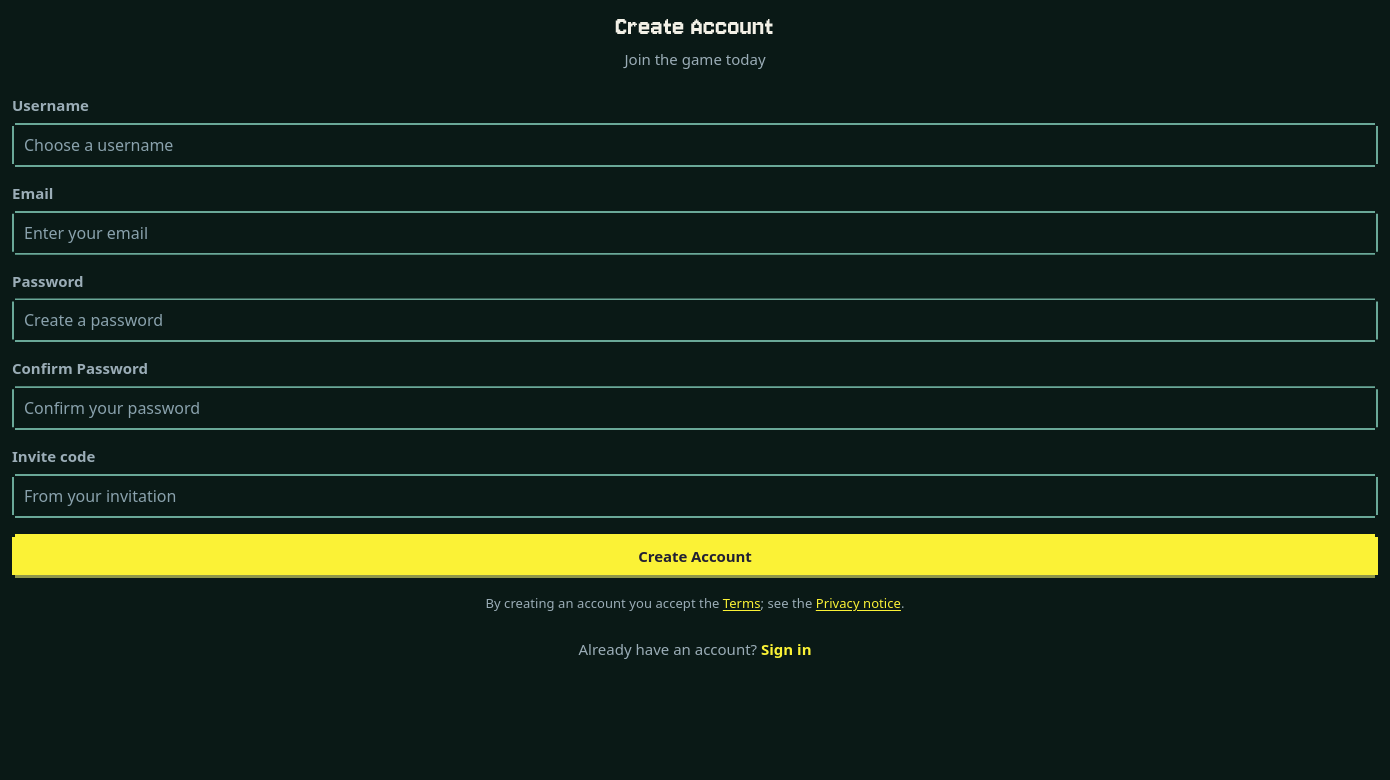
Test: SignupForm credential rules › a 7-character password is refused with the backend message
Type "ana" into the field labelled "Username" at (695, 145), box x1=12 y1=123 x2=1378 y2=167
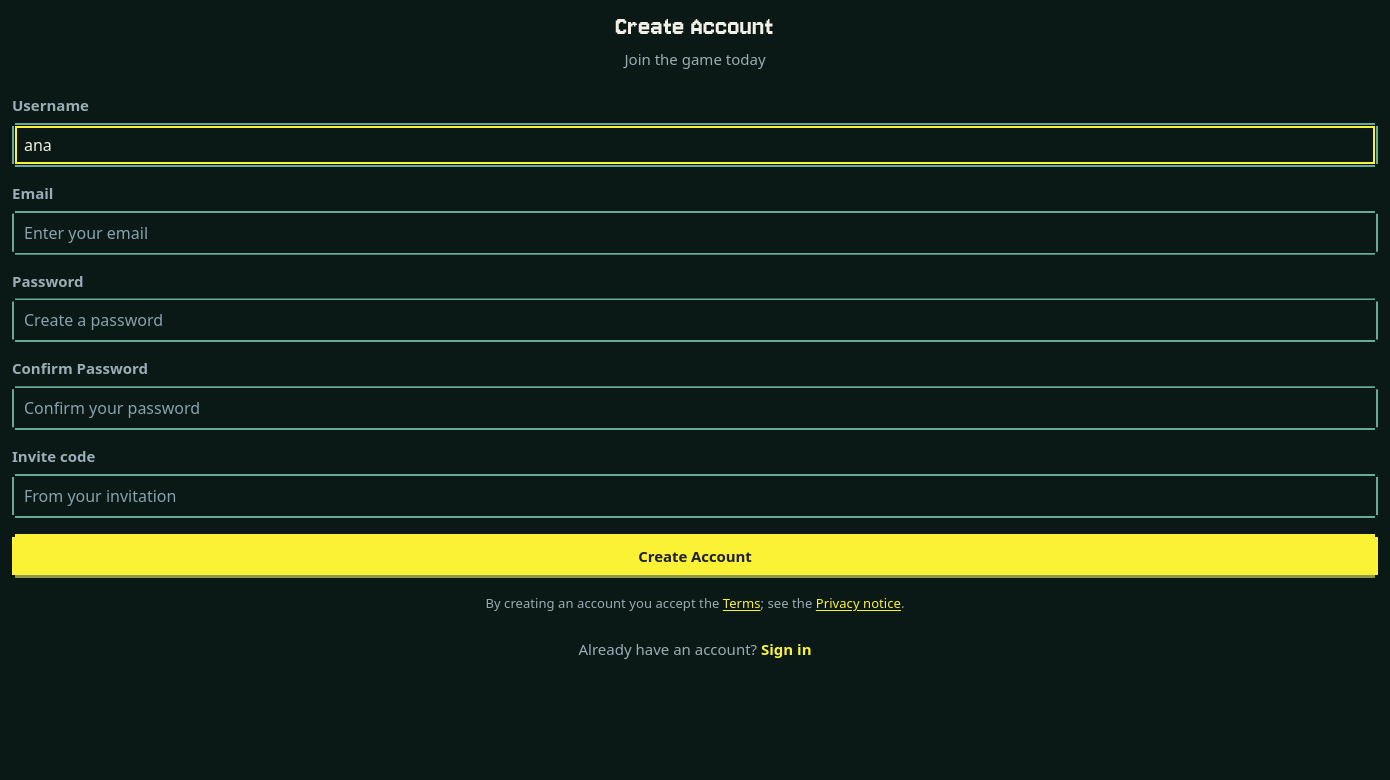
Type "ana@example.com" into the field labelled "Email" at (695, 233), box x1=12 y1=211 x2=1378 y2=255
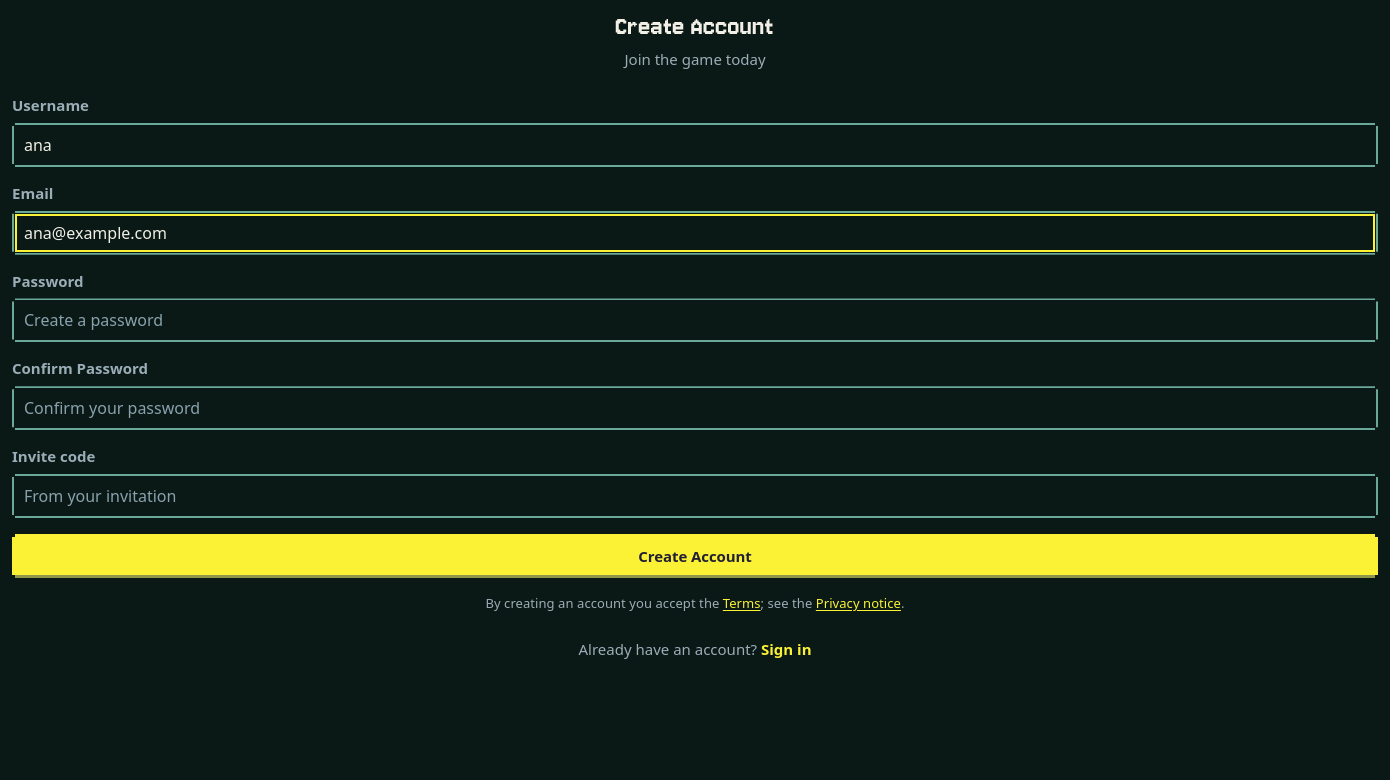
Type "short12" into the password field labelled "Password" at (695, 320), box x1=12 y1=298 x2=1378 y2=342
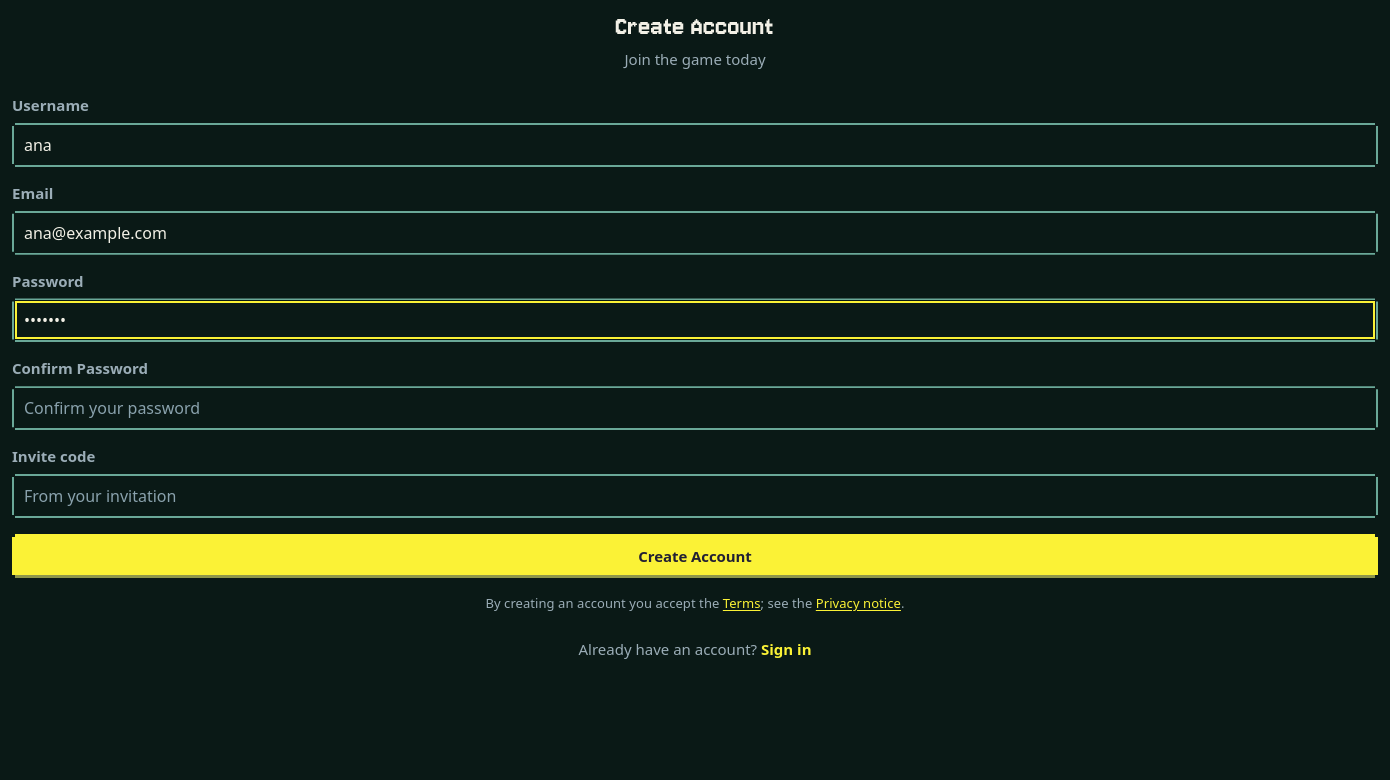
Type "short12" into the password field labelled "Confirm Password" at (695, 408), box x1=12 y1=386 x2=1378 y2=430
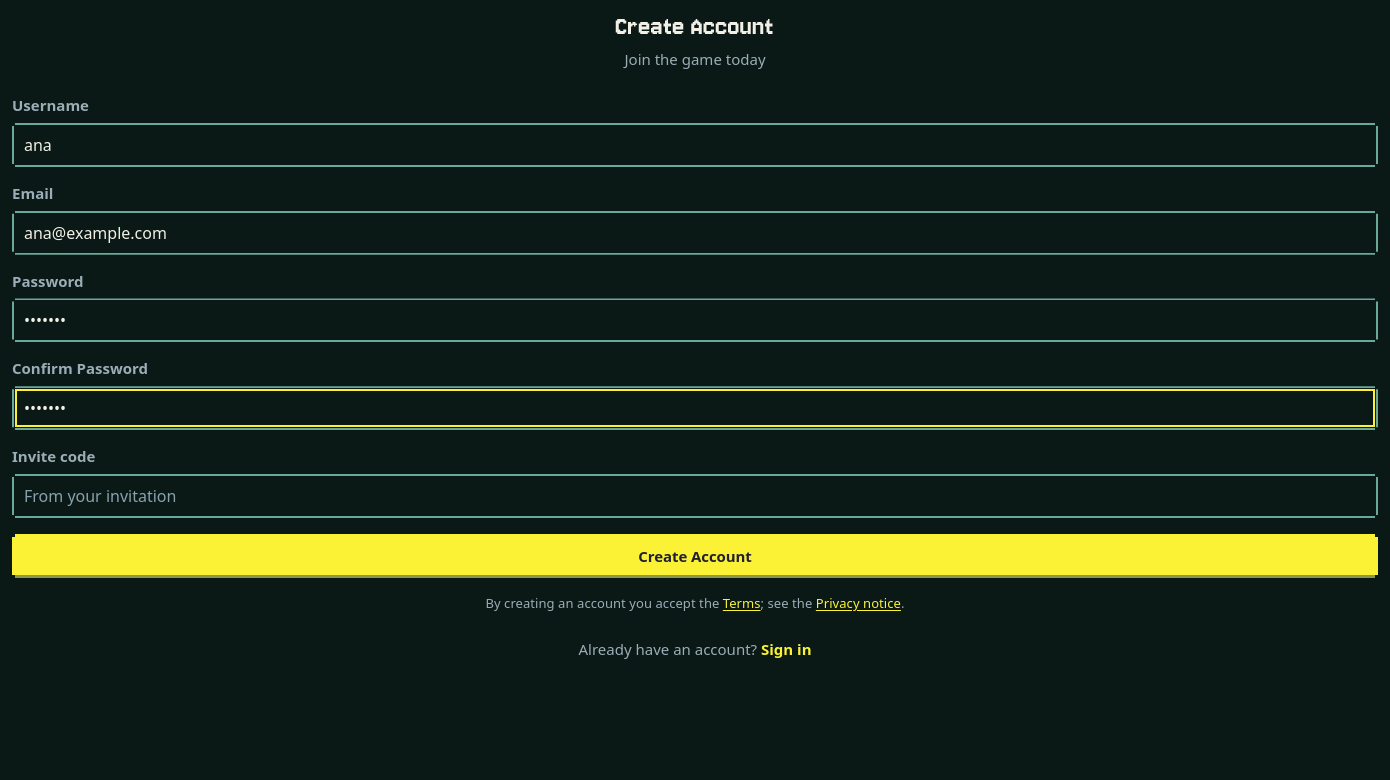
Click the button "Create Account" at (695, 556), box x1=12 y1=534 x2=1378 y2=578
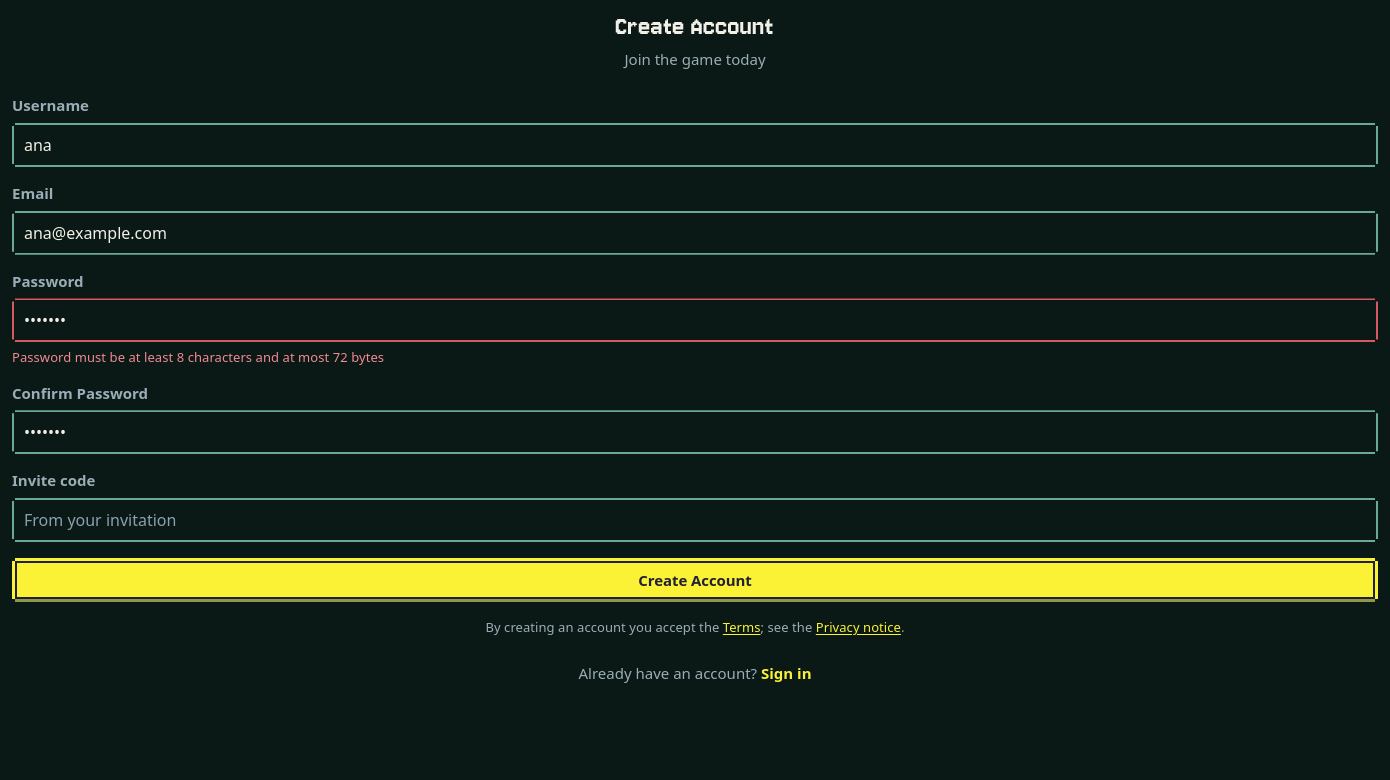
Now the text "Password must be at least 8 characters and at most 72 bytes" is shown, box x1=12 y1=348 x2=384 y2=366
